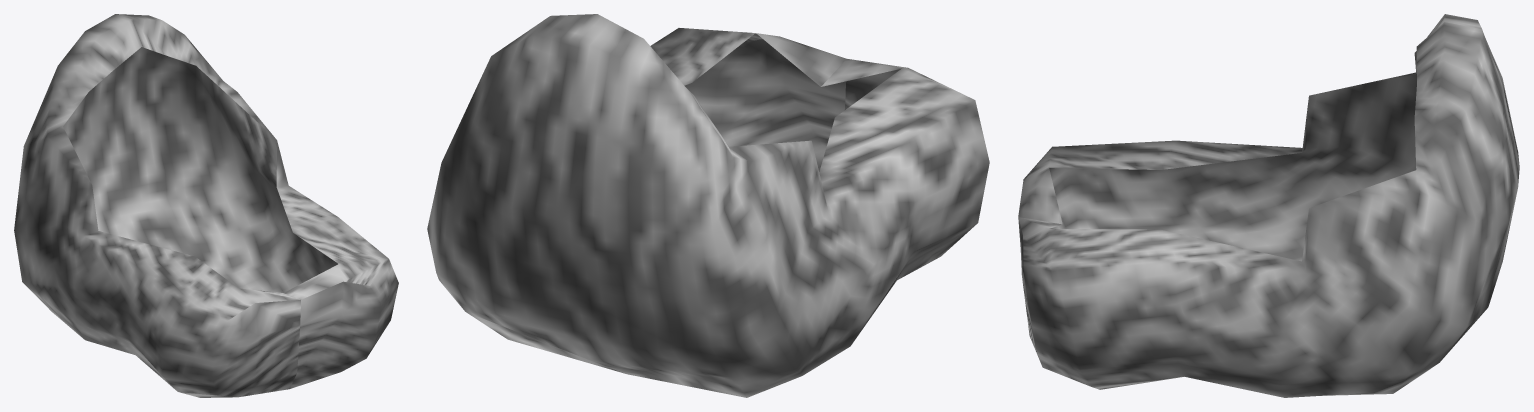
Rendered from Wig_Bob_Hair_Buffont.fbx.
The picture shows the model from 3 angles, left to right: view 1: azimuth 30°, elevation 25°; view 2: azimuth 150°, elevation 25°; view 3: azimuth 270°, elevation 25°; orthographic projection. The views are drawn at different scales.
Parts seen in each view (by area): view 1: BoxOfJars003; view 2: BoxOfJars003; view 3: BoxOfJars003.
Part boxes in pixels (x1,y1,x2,y2): BoxOfJars003: [14, 14, 398, 397]; BoxOfJars003: [427, 14, 989, 397]; BoxOfJars003: [1018, 14, 1519, 397].
Size of the model in its own units: 13.74 by 14.34 by 19.48.
